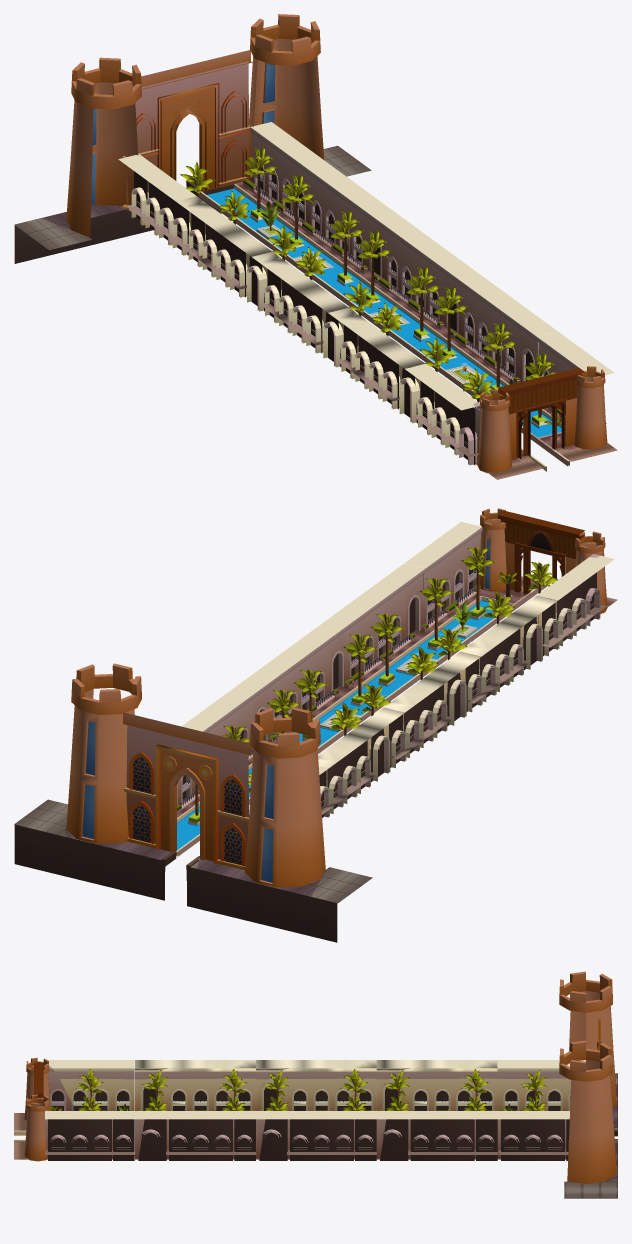
Rendered from castle.fbx.
3 renders of one model, top to bottom at view 1: azimuth 30°, elevation 25°; view 2: azimuth 150°, elevation 25°; view 3: azimuth 270°, elevation 25°, orthographic. The views are drawn at different scales.
Parts seen in each view (by area): view 1: 1.104_Dubai_epic_start, 1.104_Dubai_epic_end, 1.104_Dubai_epic_mid.001, 1.104_Dubai_epic_mid, 1.104_Dubai_epic_mid.002; view 2: 1.104_Dubai_epic_start, 1.104_Dubai_epic_end, 1.104_Dubai_epic_mid.002, 1.104_Dubai_epic_mid.001, 1.104_Dubai_epic_mid; view 3: 1.104_Dubai_epic_start, 1.104_Dubai_epic_mid, 1.104_Dubai_epic_mid.001, 1.104_Dubai_epic_mid.002, 1.104_Dubai_epic_end.
Boxes of the visible parts, box(x1,y1,x2,y2) form: 1.104_Dubai_epic_start: box(14, 14, 371, 263); 1.104_Dubai_epic_end: box(405, 331, 617, 479); 1.104_Dubai_epic_mid.001: box(252, 219, 480, 367); 1.104_Dubai_epic_mid: box(176, 164, 404, 311); 1.104_Dubai_epic_mid.002: box(328, 275, 557, 423); 1.104_Dubai_epic_start: box(14, 663, 372, 942); 1.104_Dubai_epic_end: box(405, 508, 617, 656); 1.104_Dubai_epic_mid.002: box(328, 563, 557, 712); 1.104_Dubai_epic_mid.001: box(252, 619, 480, 768); 1.104_Dubai_epic_mid: box(181, 675, 404, 817); 1.104_Dubai_epic_start: box(497, 971, 617, 1198); 1.104_Dubai_epic_mid: box(376, 1060, 497, 1160); 1.104_Dubai_epic_mid.001: box(256, 1060, 376, 1160); 1.104_Dubai_epic_mid.002: box(135, 1060, 255, 1160); 1.104_Dubai_epic_end: box(14, 1057, 135, 1161).
Bounding box in the file's own units: 28659 × 16003 × 58499.
